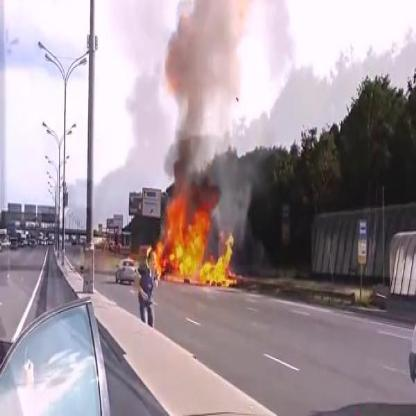fire: (149, 177, 241, 289)
